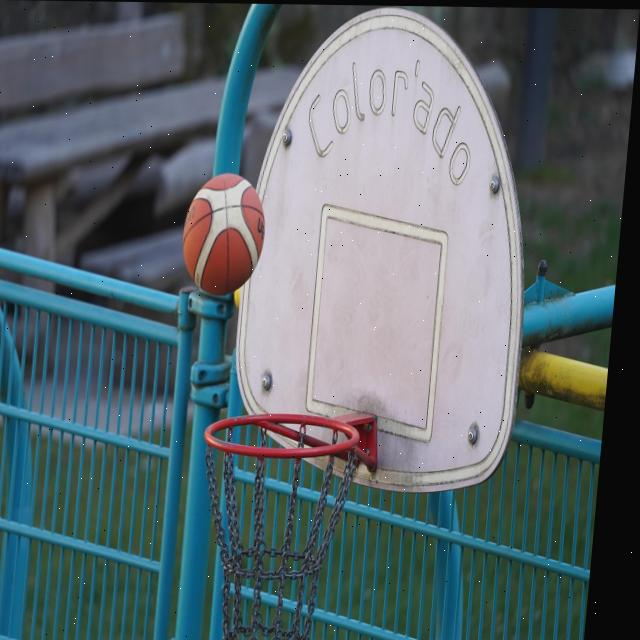Basketball: (178, 173, 269, 298)
